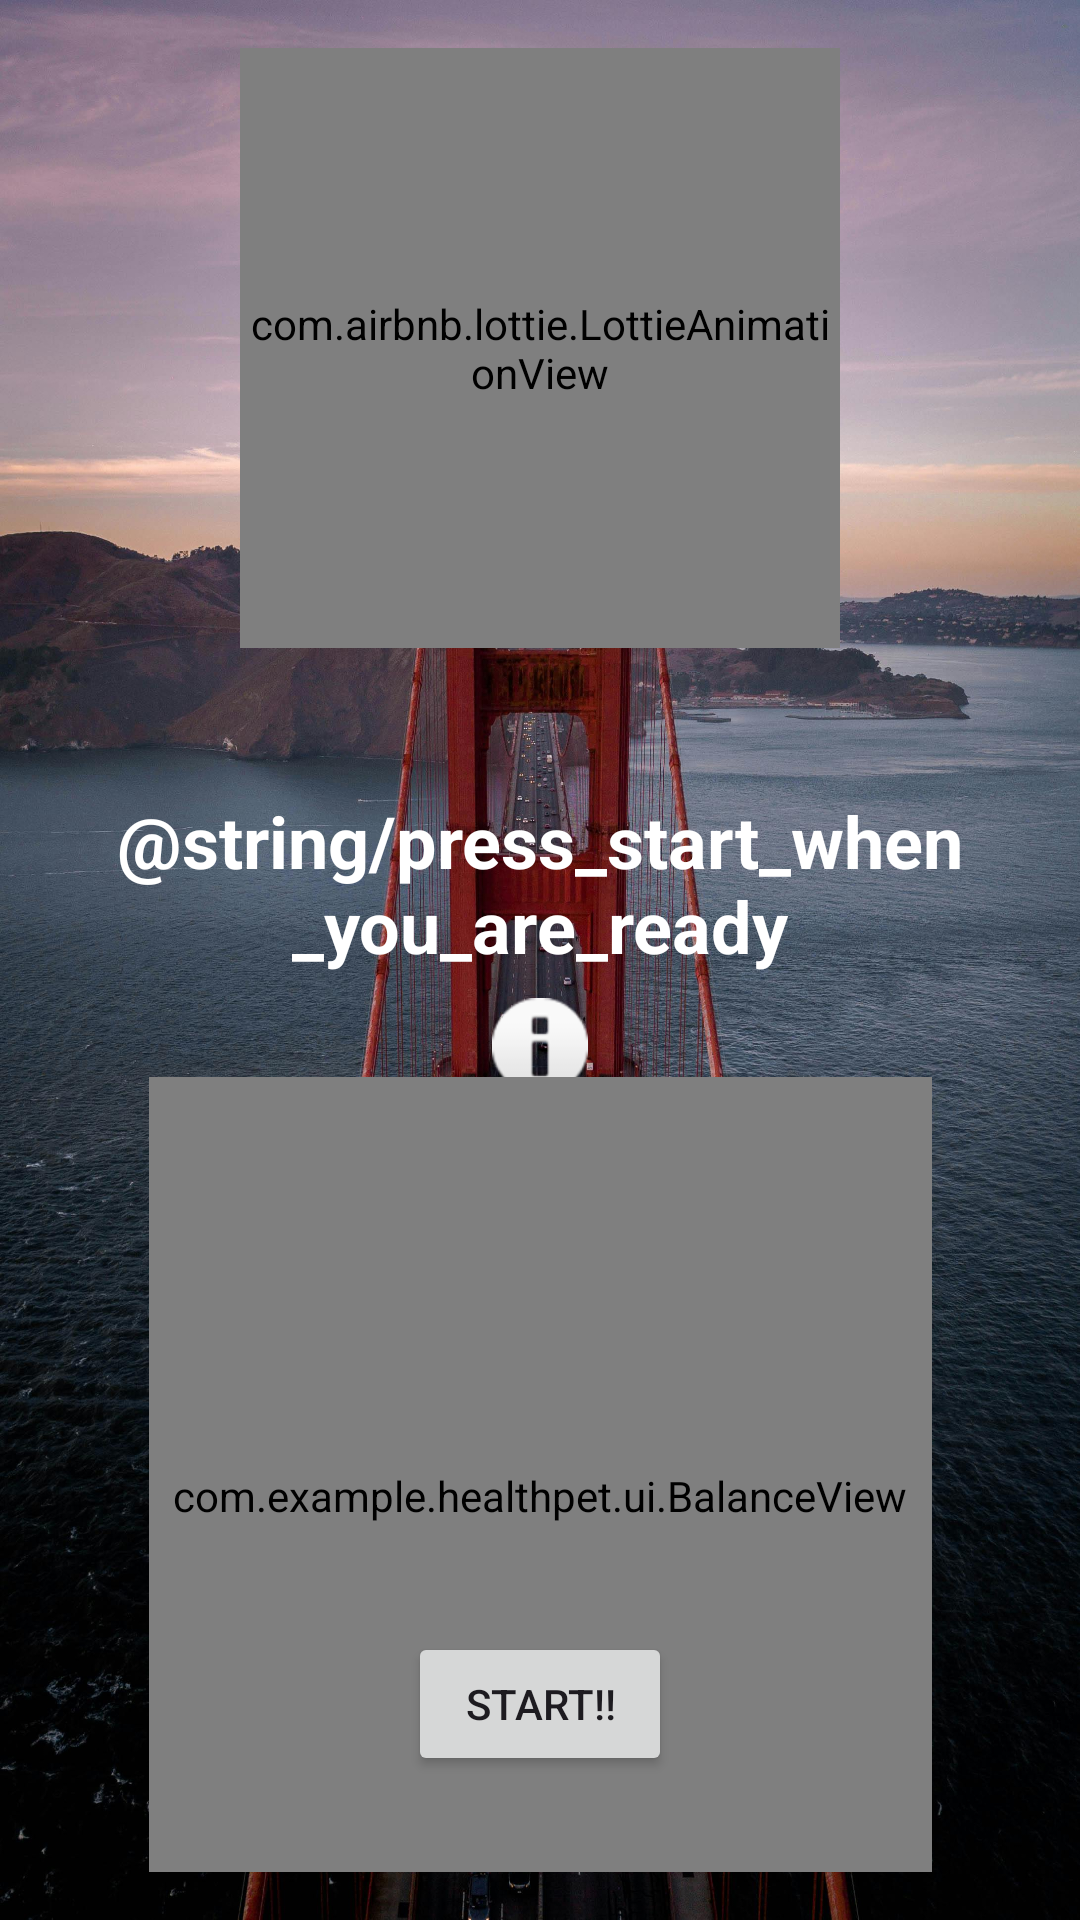

Screen size 1080px x 1920px. Icon name, then its center in pixels as (x=x, y=y):
info: (x=540, y=1046)
